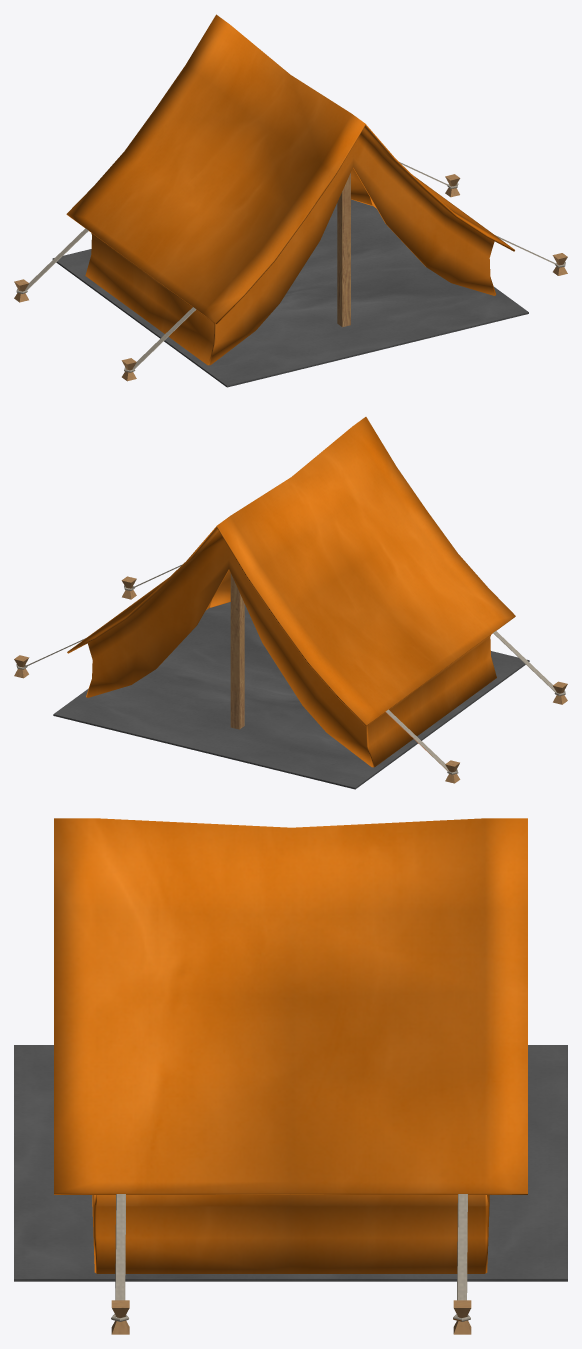
File: zelt.fbx
3 views of the same model, one above another, from view 1: azimuth 30°, elevation 25°; view 2: azimuth 150°, elevation 25°; view 3: azimuth 270°, elevation 25° (orthographic). The views are drawn at different scales.
Parts seen in each view (by area): view 1: zelt, Plane, pfahl, seil, Cube; view 2: zelt, Plane, pfahl, seil, Cube; view 3: zelt, Plane, seil, Cube.
Part boxes in pixels (<box>): zelt: <box>66,14,514,365</box>; Plane: <box>52,199,528,387</box>; pfahl: <box>337,173,350,327</box>; seil: <box>16,162,565,372</box>; Cube: <box>14,174,567,381</box>; zelt: <box>67,417,515,767</box>; Plane: <box>53,602,529,789</box>; pfahl: <box>230,573,244,729</box>; seil: <box>16,564,565,774</box>; Cube: <box>14,576,567,783</box>; zelt: <box>54,818,527,1273</box>; Plane: <box>14,1045,567,1281</box>; seil: <box>111,1194,470,1321</box>; Cube: <box>111,1300,471,1334</box>.
Size of the model in its own units: 503 by 237 by 344.
